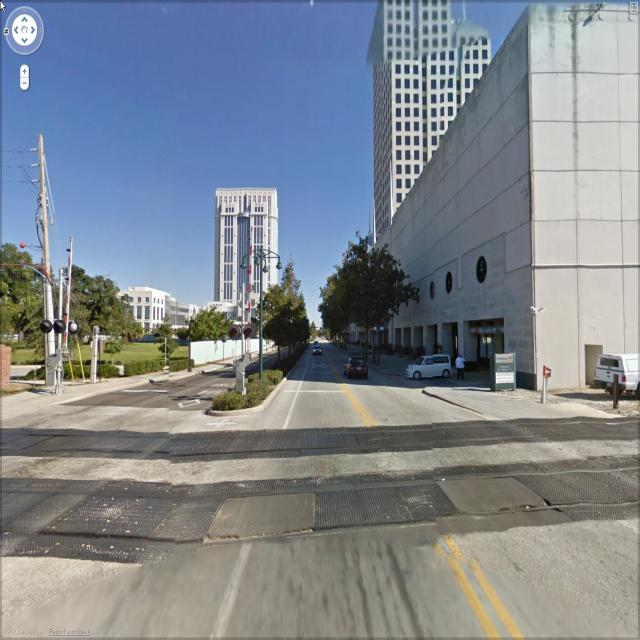b_1: (393, 12, 640, 366), (372, 5, 466, 182), (217, 188, 281, 334), (100, 290, 197, 341)
